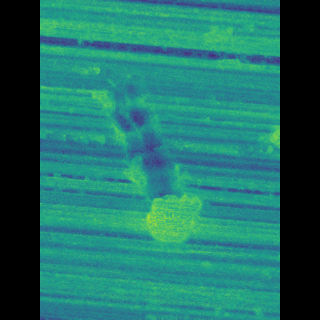Loch: (109, 66, 192, 247)
